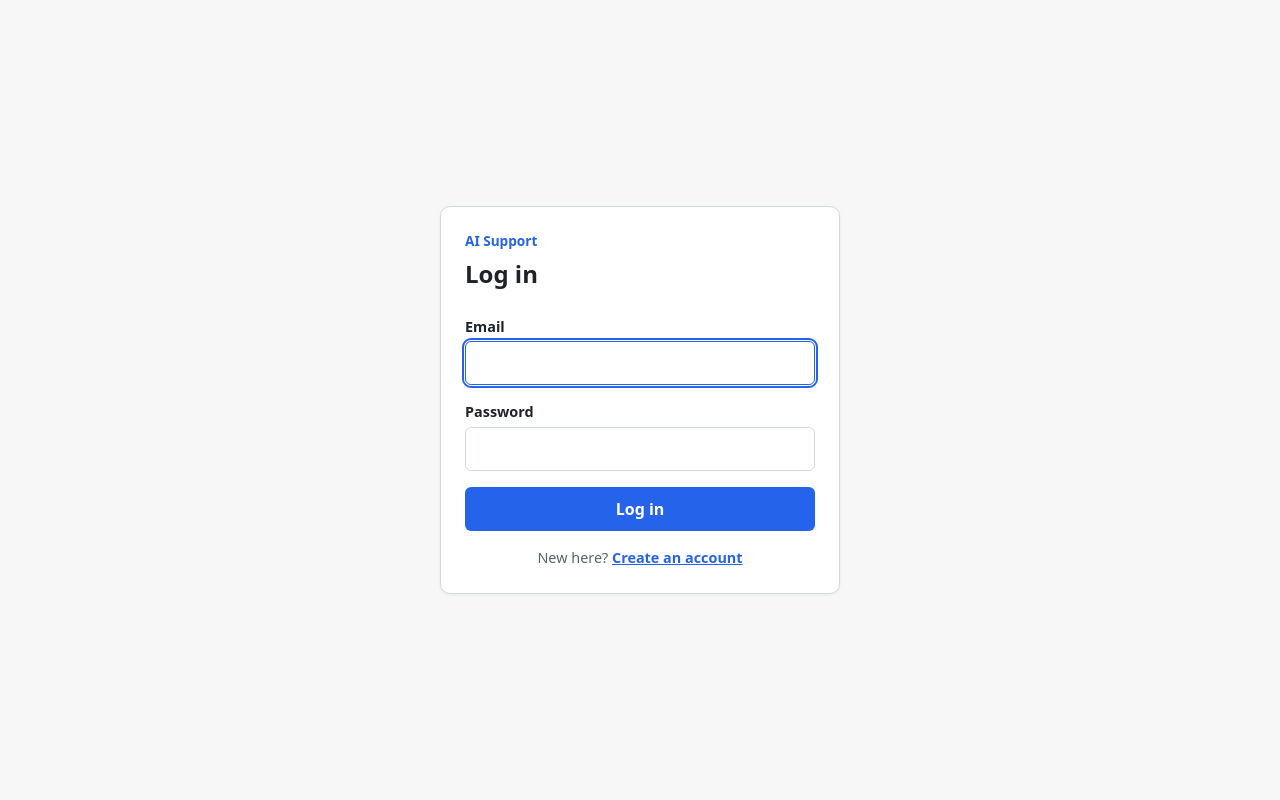
Scenario: Login page › AUTH-02: logs in with trimmed email and lands on the chat page
In the field labelled "Email": (640, 363) [465,341,815,385], type "  jane@example.com "
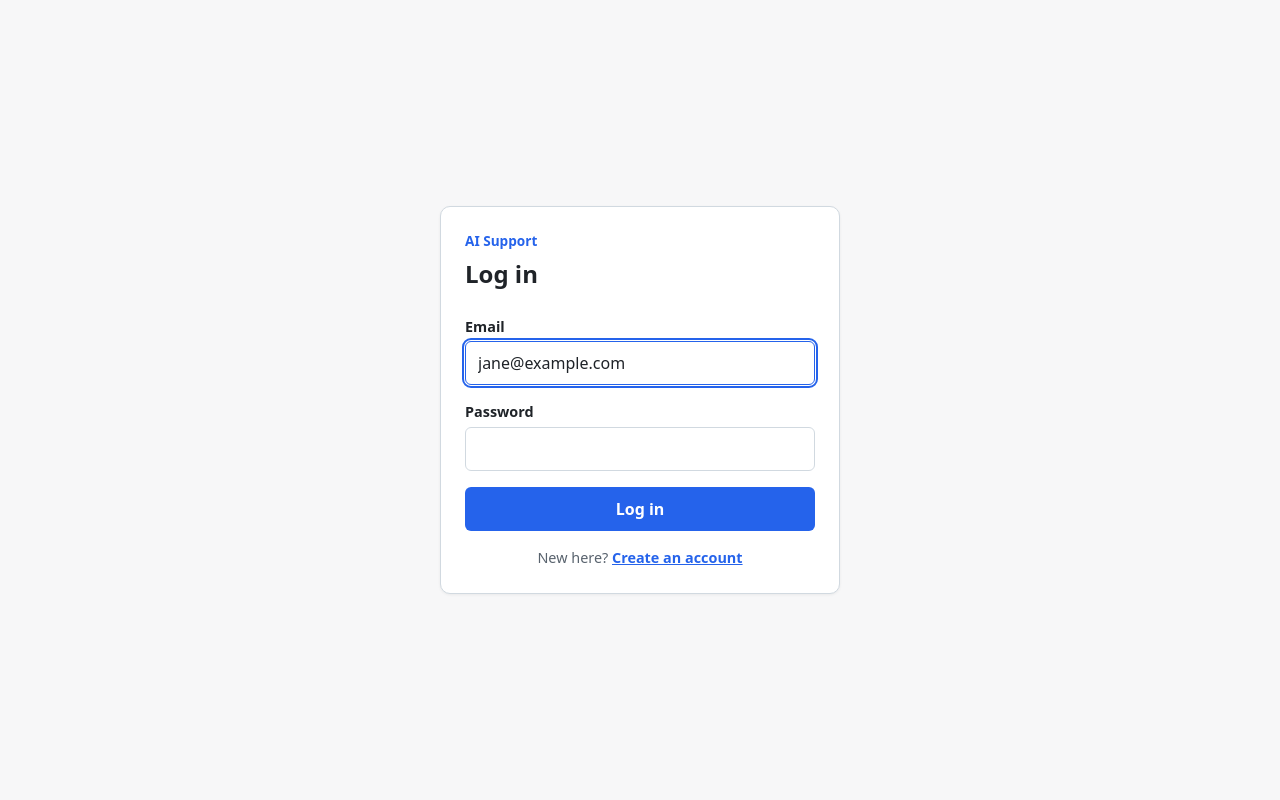
In the password field labelled "Password": (640, 449) [465,427,815,471], type "correct-horse"
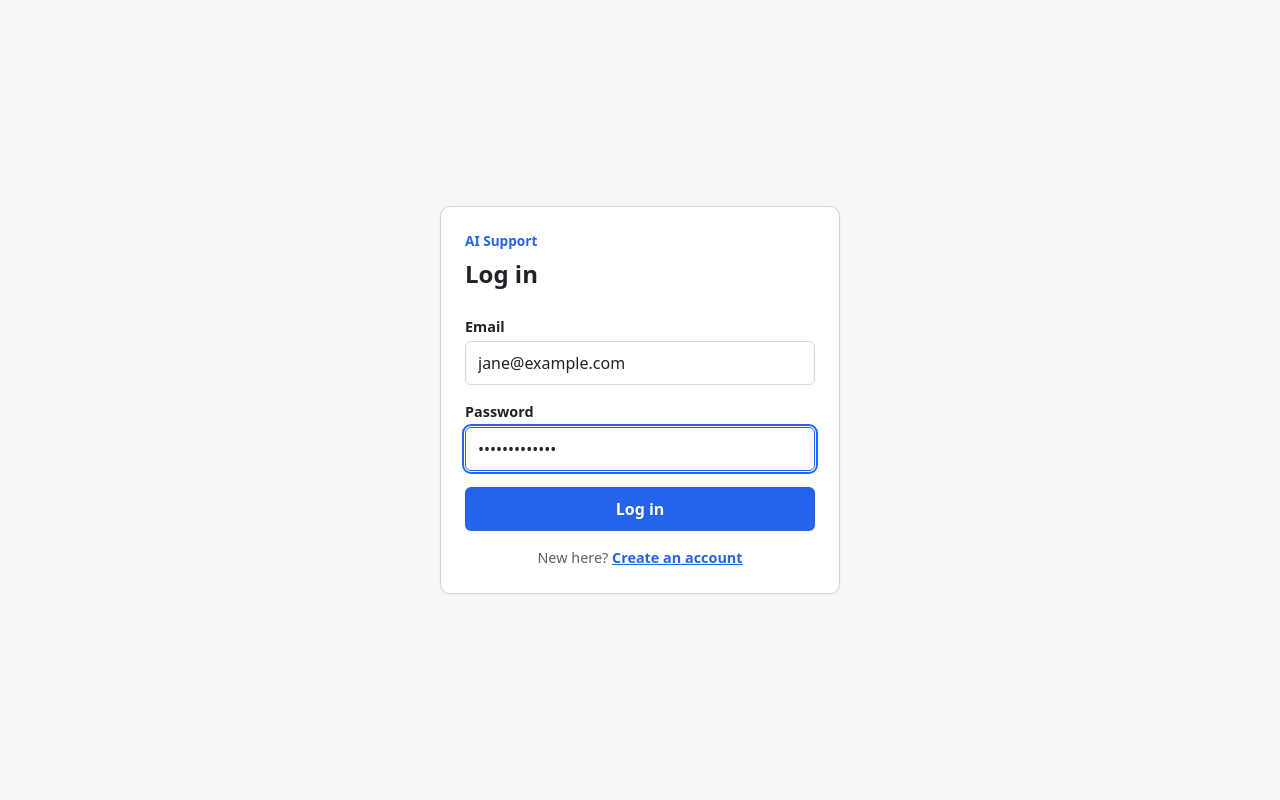
Click the button "Log in": (640, 509) [465,487,815,531]
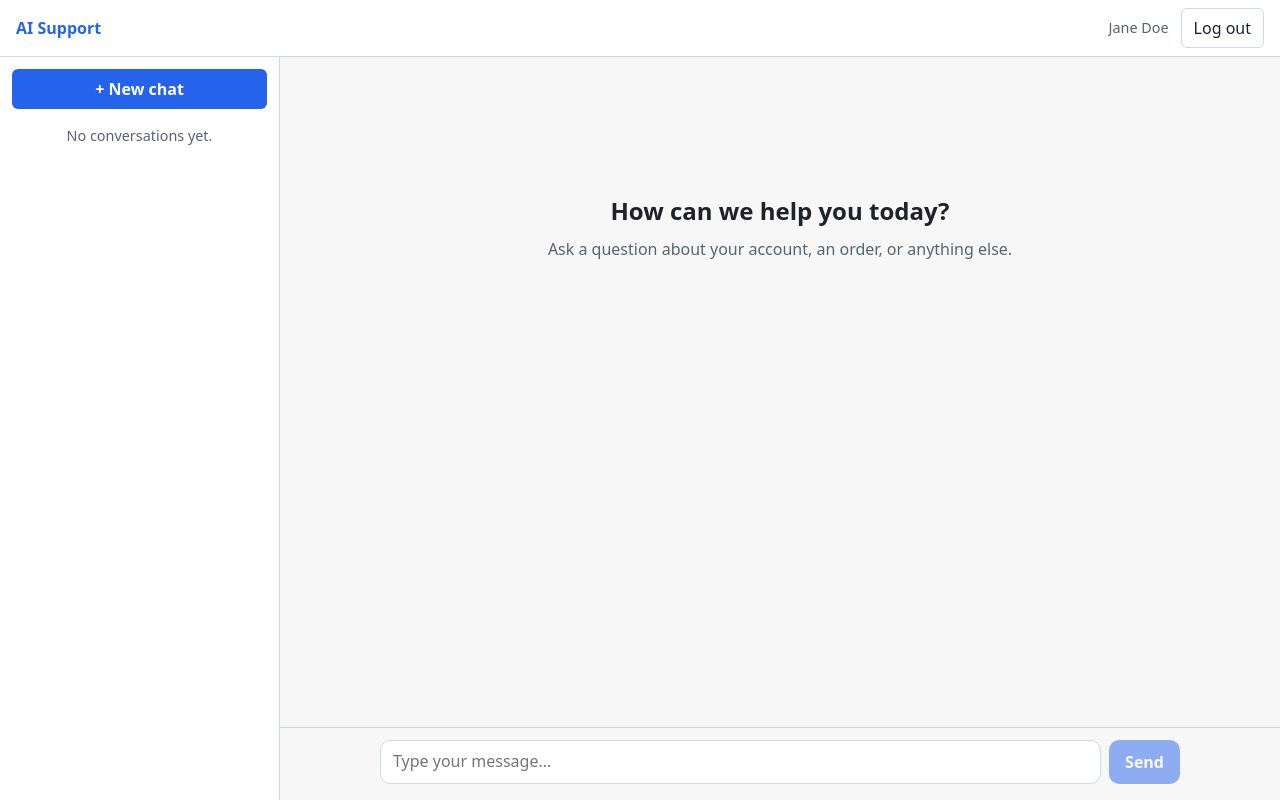
Result: the button "Log out" is shown at [1181,8,1264,48]
